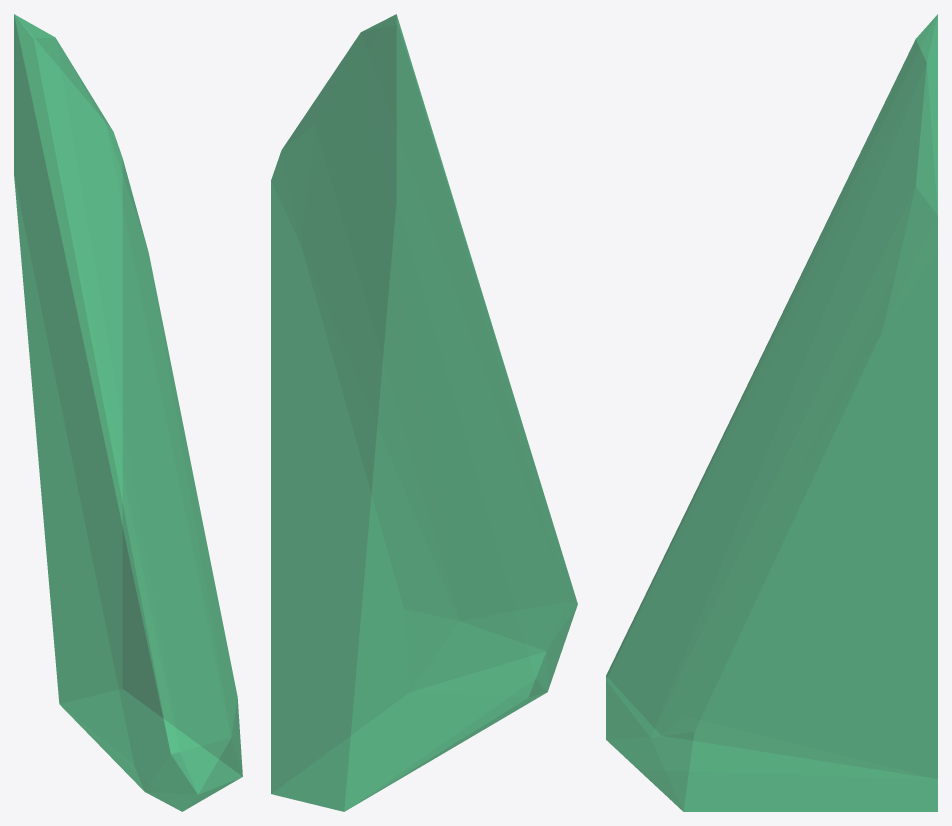
3 views of the same model, side by side, from view 1: azimuth 30°, elevation 25°; view 2: azimuth 150°, elevation 25°; view 3: azimuth 270°, elevation 25° (orthographic). The views are drawn at different scales.
Parts seen in each view (by area): view 1: Shape_IndexedFaceSet.035_Shape_IndexedFaceSet.7786; view 2: Shape_IndexedFaceSet.035_Shape_IndexedFaceSet.7786; view 3: Shape_IndexedFaceSet.035_Shape_IndexedFaceSet.7786.
Part boxes in pixels (x1=…): Shape_IndexedFaceSet.035_Shape_IndexedFaceSet.7786: x1=14, y1=14, x2=242, y2=811; Shape_IndexedFaceSet.035_Shape_IndexedFaceSet.7786: x1=271, y1=14, x2=577, y2=811; Shape_IndexedFaceSet.035_Shape_IndexedFaceSet.7786: x1=606, y1=14, x2=937, y2=811.
Bounding box in the file's own units: 0.0164 × 0.101 × 0.041.
